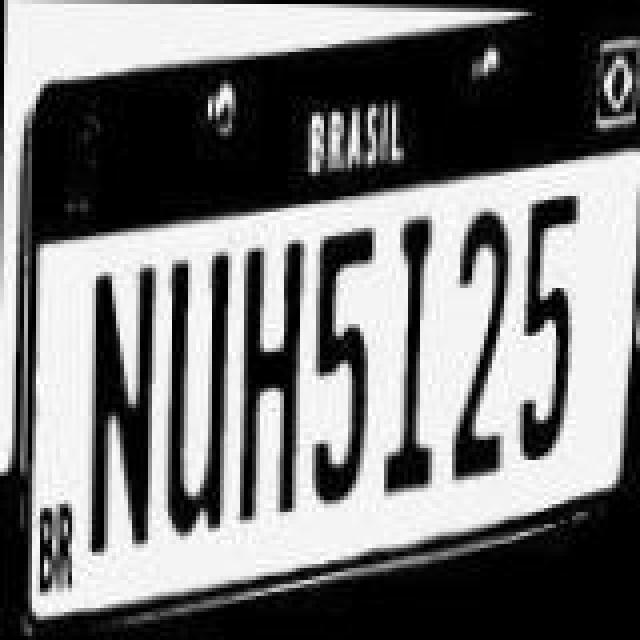2: (442, 182, 518, 466)
5: (308, 202, 380, 486), (518, 172, 586, 440)
H: (234, 220, 310, 508)
I: (378, 190, 446, 478)
N: (84, 248, 160, 556)
U: (156, 230, 232, 530)
